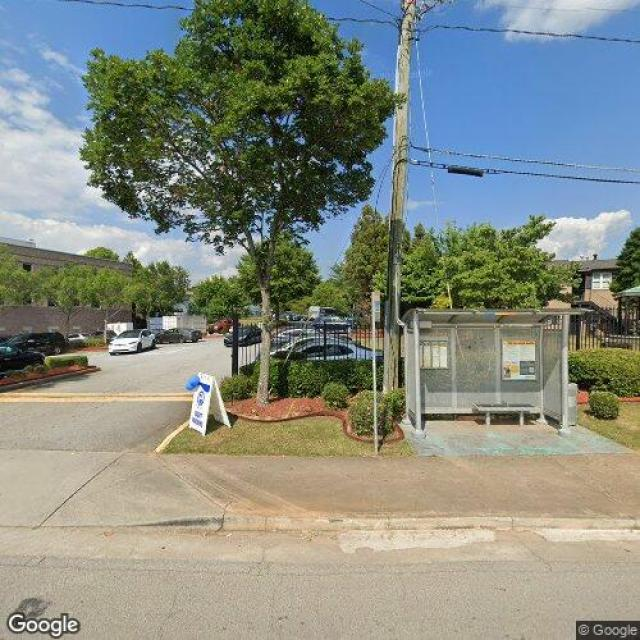seating: (472, 402, 537, 427)
shelter: (400, 308, 596, 441)
trash_can: (569, 382, 579, 426)
